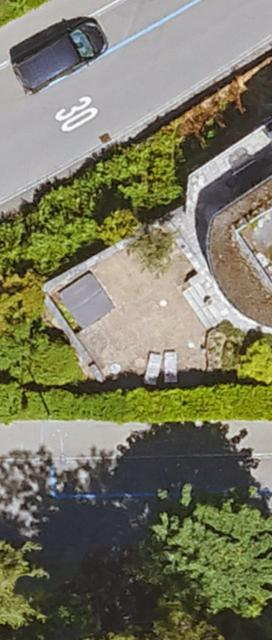tree: (146, 494, 272, 615), (76, 611, 248, 640), (0, 536, 48, 632)
